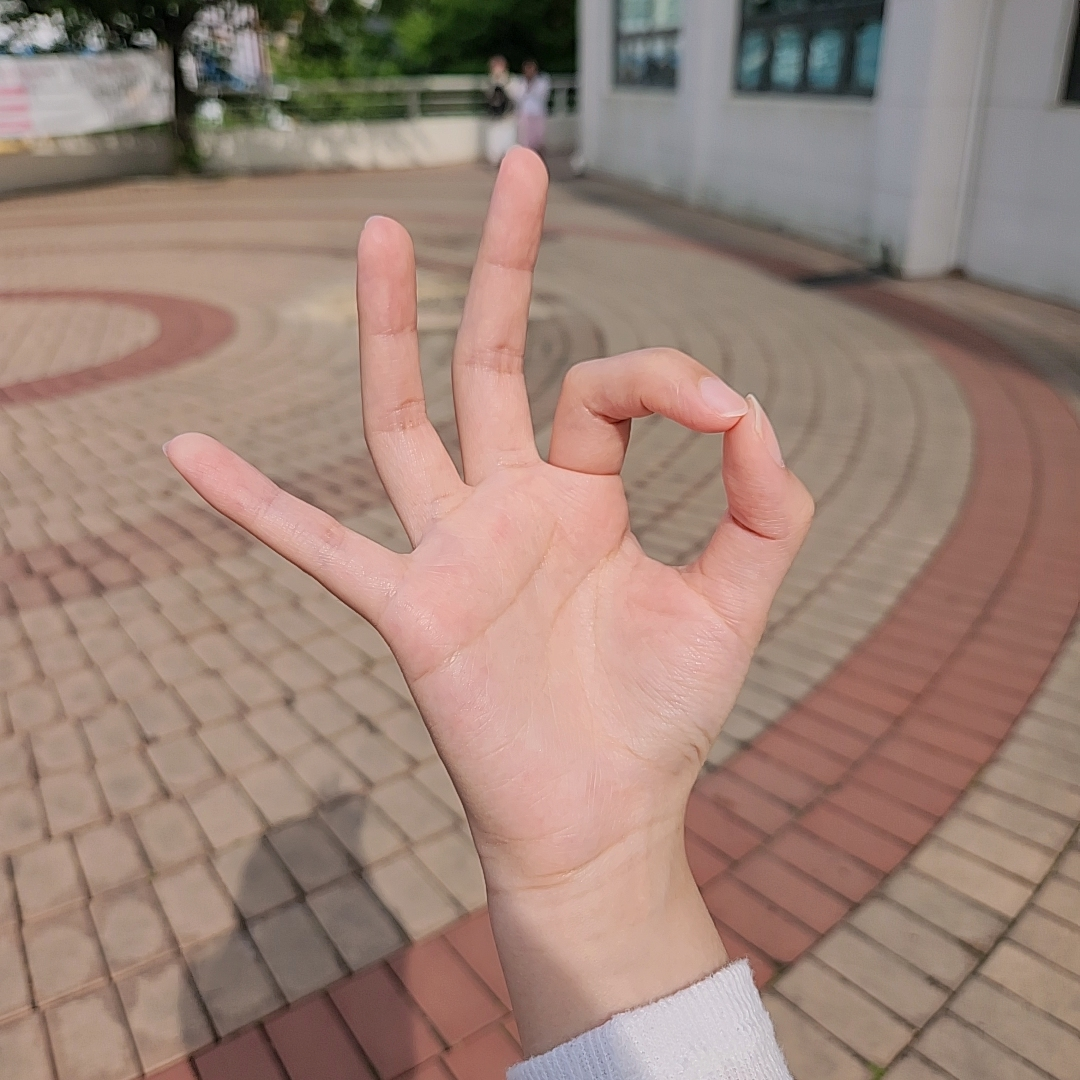see: (163, 143, 817, 809)
